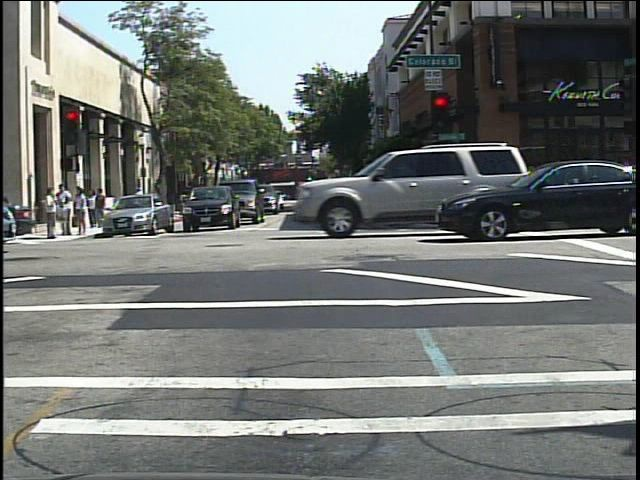person: (175, 183, 192, 218), (132, 183, 147, 216), (88, 187, 99, 231)
